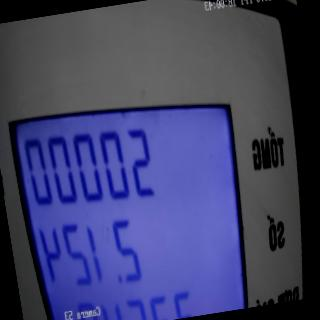screen: (4, 77, 266, 320)
